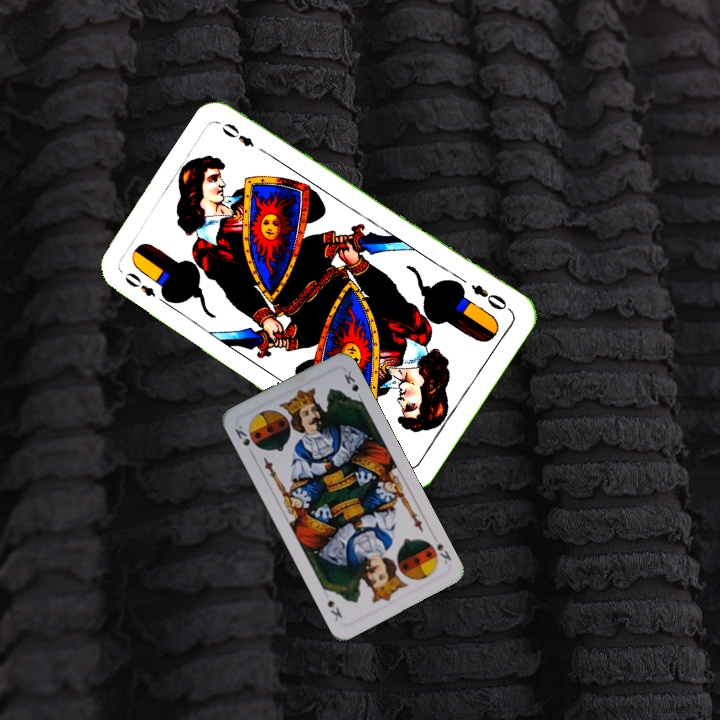EO: (121, 268, 171, 308), (467, 280, 514, 314)
SK: (230, 421, 257, 459), (433, 539, 454, 566)
